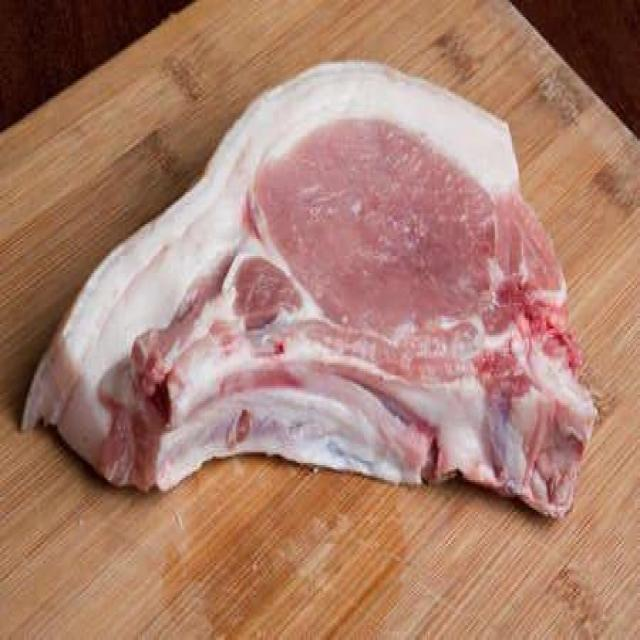pork: (71, 133, 566, 474)
